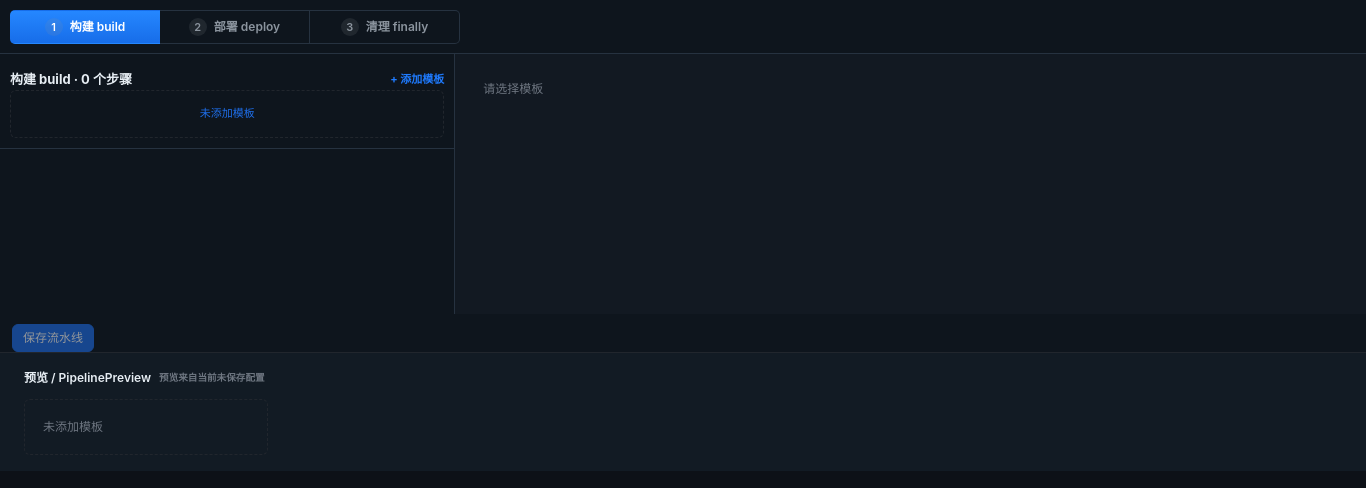
Scenario: PipelineTemplateWizard › 左栏一次只渲染当前阶段
Expected: the element showing "构建 build · 0 个步骤 + 添加模板 未添加模板" is shown, left=0, top=54, right=454, bottom=148
Expected: the text "部署" is not shown
Click the button with test id "pipeline-phase-tab-deploy". click: (235, 27)
box: left=160, top=10, right=310, bottom=44
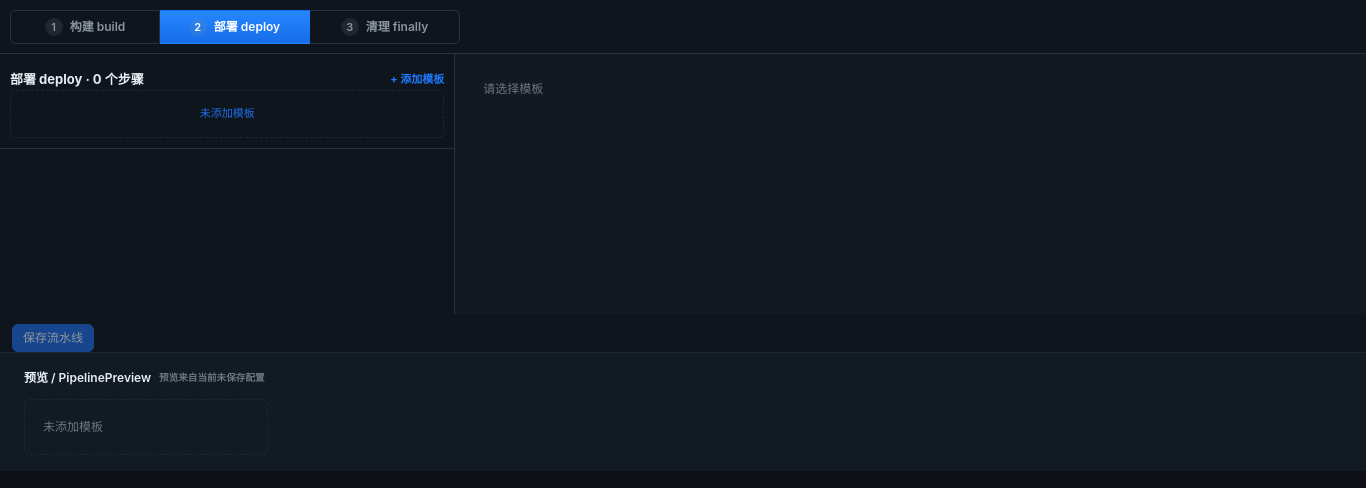
Expected: the text "构建" is not shown
Expected: the element showing "部署 deploy · 0 个步骤 + 添加模板 未添加模板" is shown, left=0, top=54, right=454, bottom=148
